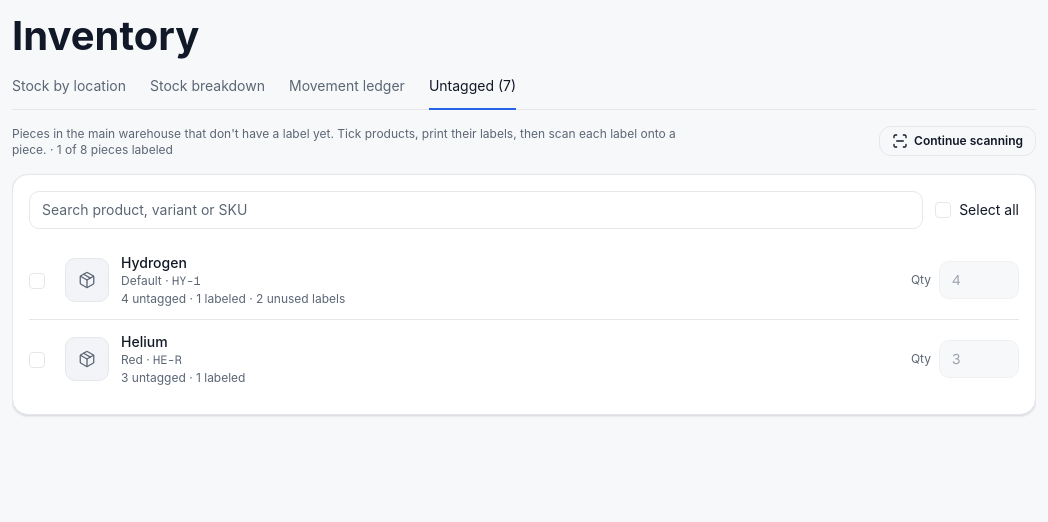
Test: A — Tag stock in Inventory › ut2 — select all, qty cap, the bar, one print, then Start scanning
Expected: the button "Untagged (7)" is shown, 429,76 -> 516,110
Expected: the list item with test id "untagged-row-v-blue" shows "4 untagged · 1 labeled", 121,291 -> 246,306
Click the text "Select all".
click(989, 210)  # box 959,200 -> 1019,220
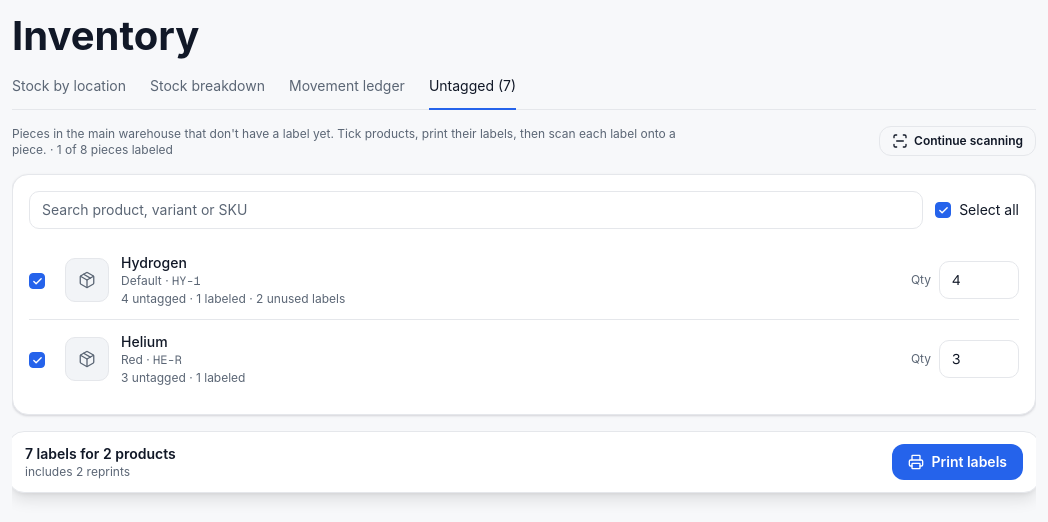
Expected: the field with test id "untagged-qty-v-blue" holds "4", 939,261 -> 1019,299
Expected: the field with test id "untagged-qty-v-red" holds "3"
Expected: the element with test id "untagged-bar" shows "7 labels for 2 products", 25,445 -> 176,462
Type "9" into the field with test id "untagged-qty-v-red".
click(979, 359); type("9")  # box 939,340 -> 1019,378
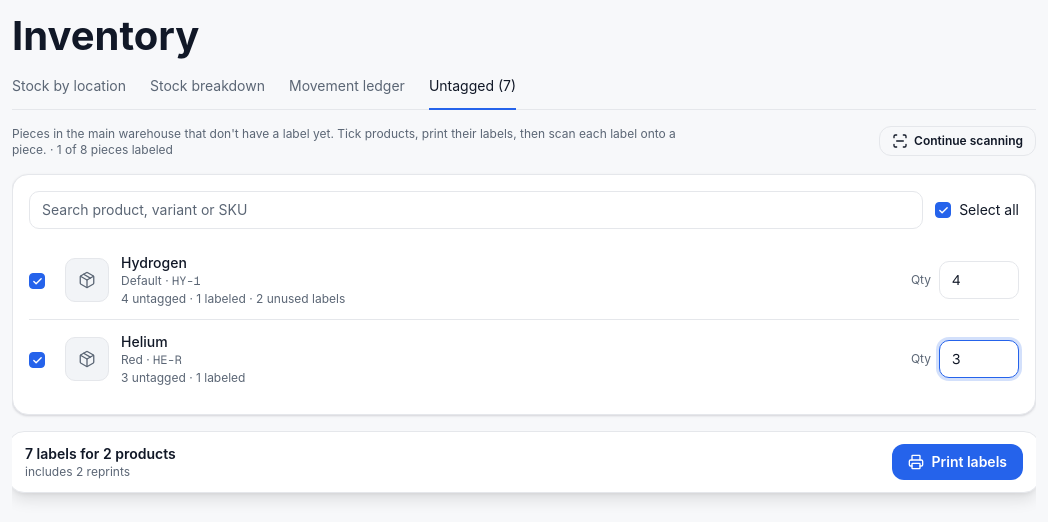
Type "1" into the field with test id "untagged-qty-v-red".
click(979, 359); type("1")  # box 939,340 -> 1019,378
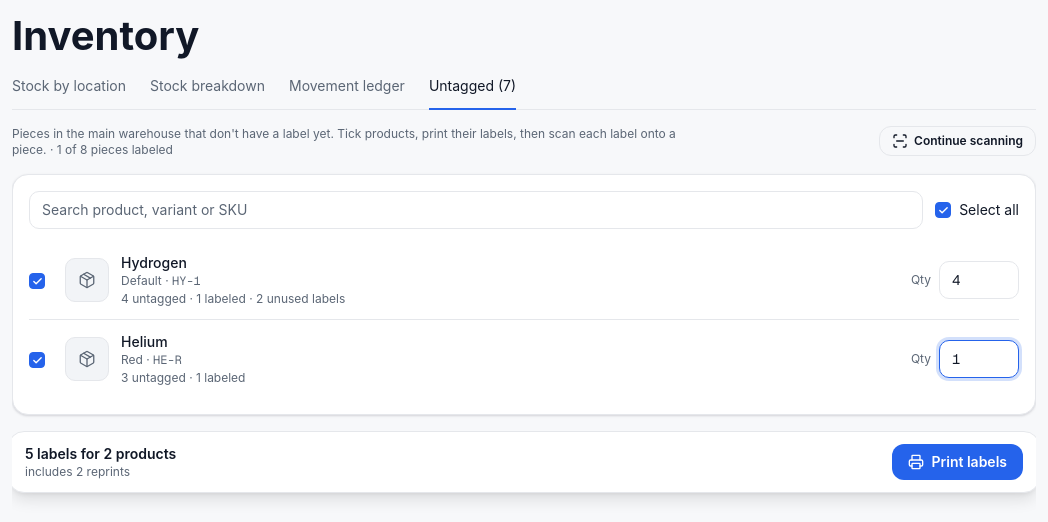
Expected: the element with test id "untagged-bar" shows "5 labels for 2 products", 25,445 -> 176,462
Click the button "Print labels".
click(957, 462)  # box 892,444 -> 1023,480
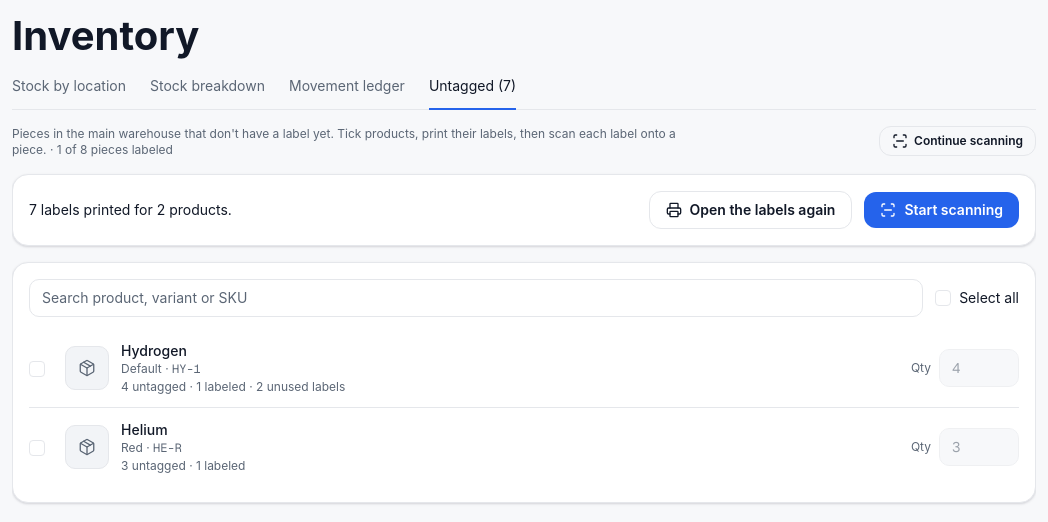
Click the button "Start scanning".
click(942, 210)  # box 864,192 -> 1019,228
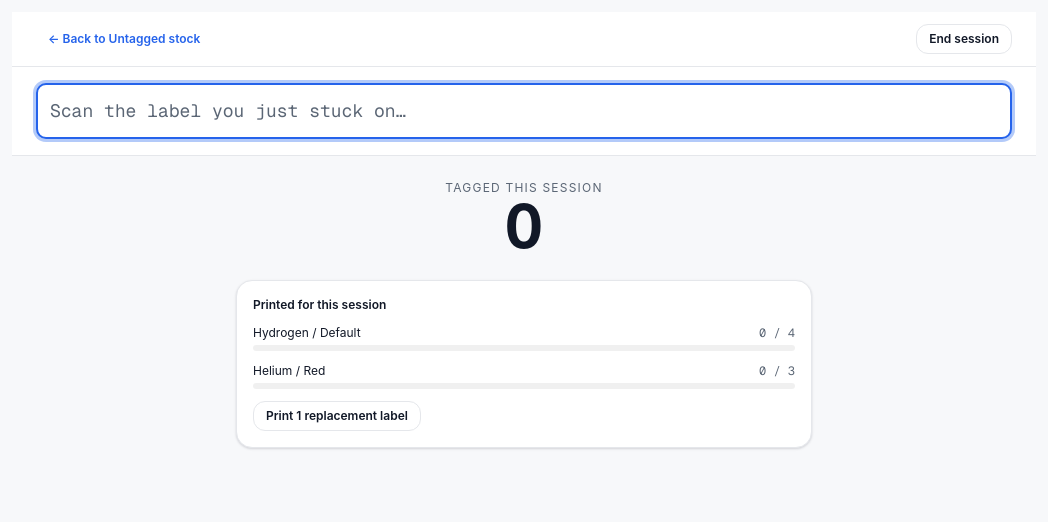
Expected: the element with test id "tag-progress" shows "Hydrogen / Default", 236,280 -> 812,448
Expected: the element with test id "tag-progress" shows "0 / 4", 236,280 -> 812,448
Expected: the element with test id "tag-progress" shows "Helium / Red", 236,280 -> 812,448
